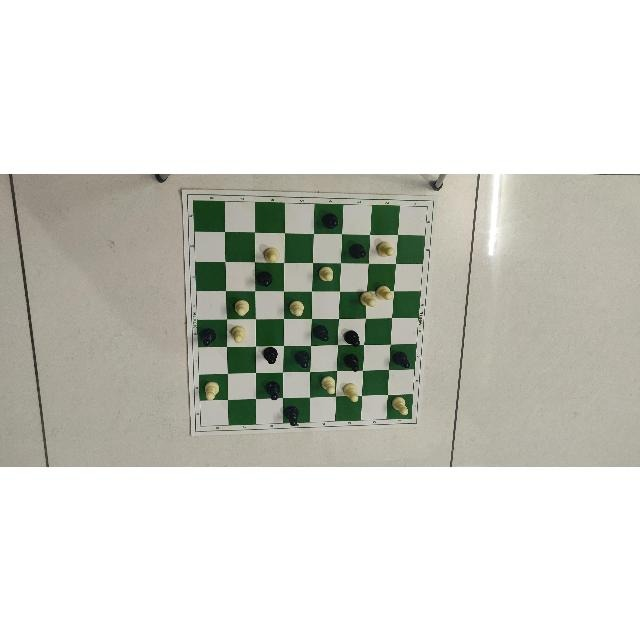black-pawn: (388, 342, 416, 374), (316, 206, 342, 234), (279, 402, 303, 430), (339, 349, 363, 375), (346, 238, 369, 264), (263, 373, 281, 405), (311, 320, 332, 345), (341, 327, 366, 348), (256, 266, 276, 292), (261, 342, 281, 367), (291, 347, 311, 372), (197, 325, 218, 346)
white-pawn: (196, 375, 224, 403), (228, 294, 253, 322), (226, 317, 250, 345), (371, 234, 397, 259), (286, 294, 308, 322), (314, 262, 337, 288), (390, 389, 410, 418), (342, 375, 360, 406), (263, 240, 281, 270), (357, 286, 375, 315), (375, 280, 395, 305), (319, 371, 337, 397)
